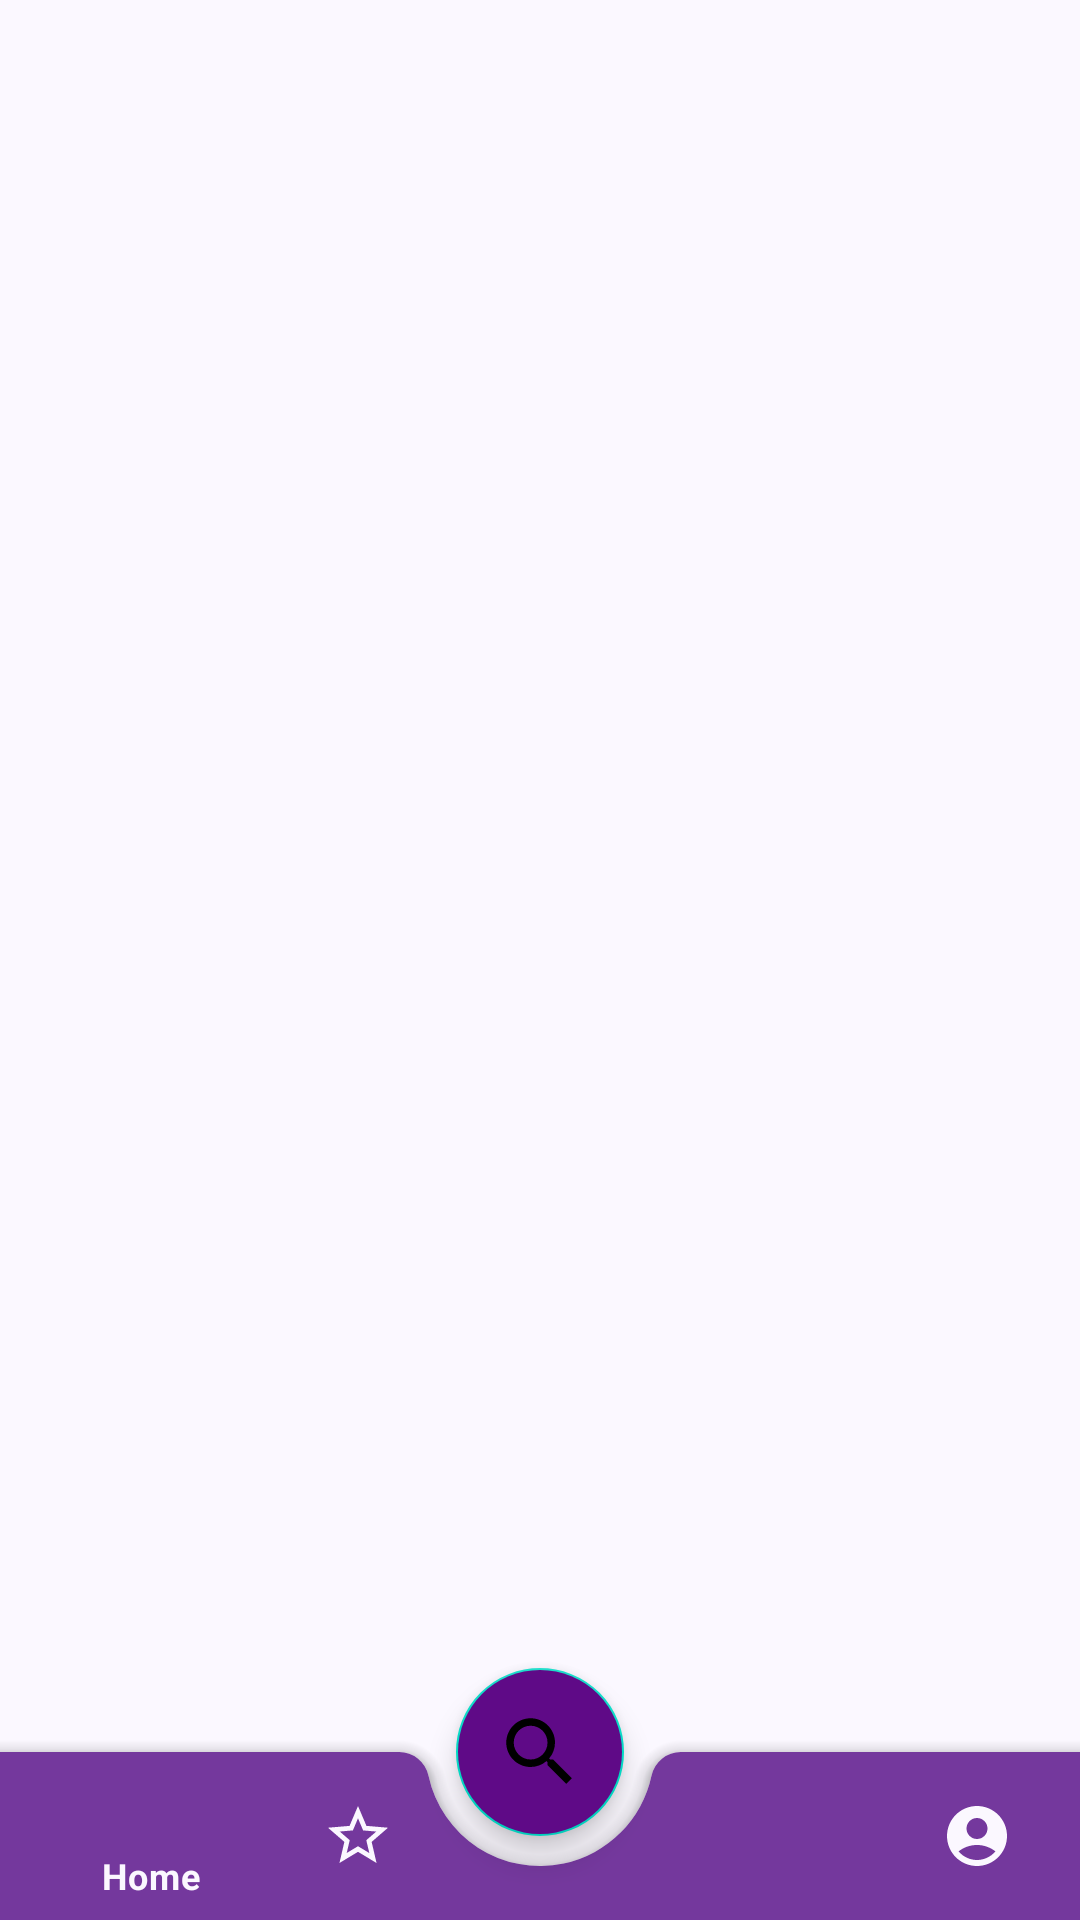

Icon bounding boxes for this 1080w x 1920h phone screenshot, format BBox(x1, y1, x2, y2):
search: BBox(456, 1668, 624, 1836)
